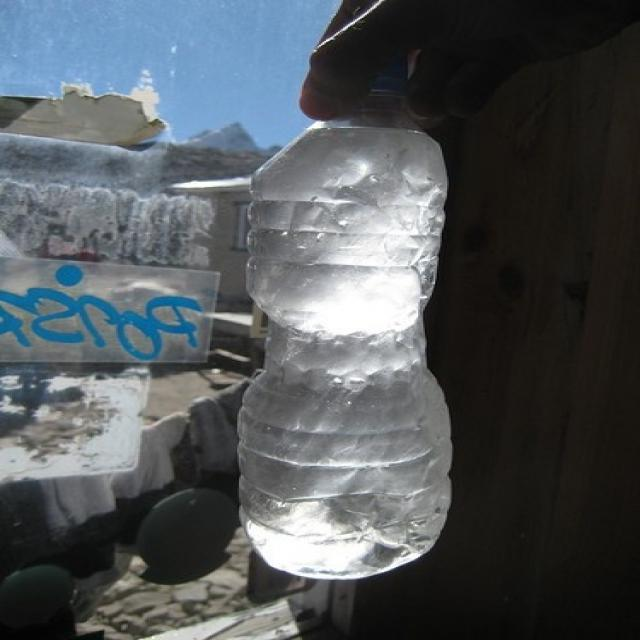plastic_bottle: (238, 70, 452, 578)
